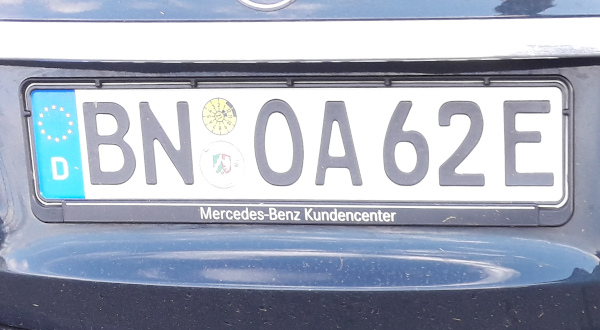license_plate: (25, 75, 568, 209)
